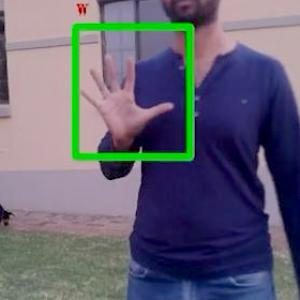follow_hand: (75, 48, 176, 145)
